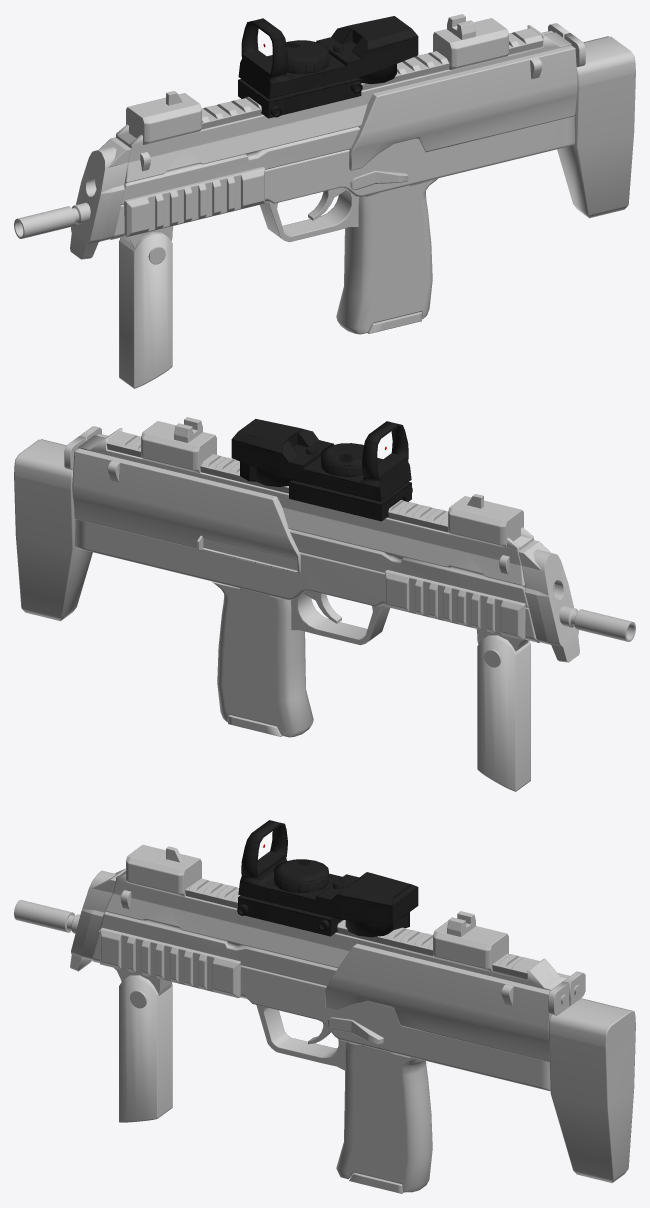
File: MP7_Sub_Machine_Gun.fbx
The picture shows the model from 3 angles, top to bottom: view 1: azimuth 30°, elevation 25°; view 2: azimuth 150°, elevation 25°; view 3: azimuth 330°, elevation 25°; orthographic projection.
Visible parts, largest first — view 1: MP_7_Clip1; view 2: MP_7_Clip1; view 3: MP_7_Clip1.
Boxes of the visible parts, box(x1,y1,x2,y2) form: MP_7_Clip1: box(14, 14, 635, 388); MP_7_Clip1: box(14, 417, 635, 791); MP_7_Clip1: box(14, 820, 635, 1193).
Size of the model in its own units: 1.47 by 0.7527 by 0.1459.
